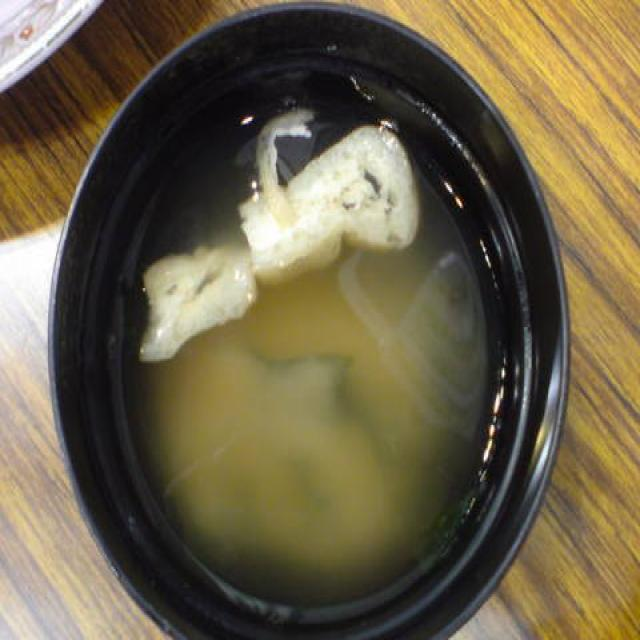汤锅炖物: (52, 0, 565, 640)
